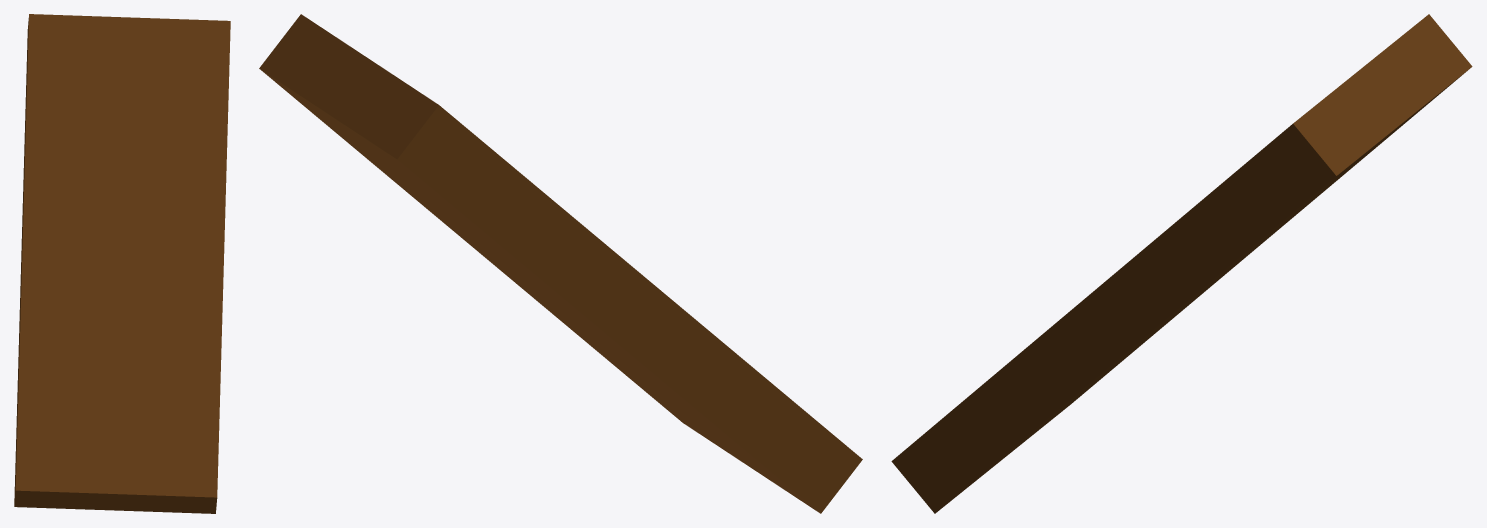
Rendered from Bridge1.fbx.
3 views of the same model, side by side, from view 1: azimuth 30°, elevation 25°; view 2: azimuth 150°, elevation 25°; view 3: azimuth 270°, elevation 25° (orthographic). The views are drawn at different scales.
Visible parts, largest first — view 1: Bridge1; view 2: Bridge1; view 3: Bridge1.
Boxes of the visible parts, <box> form: Bridge1: <box>14,14,230,513</box>; Bridge1: <box>259,14,862,513</box>; Bridge1: <box>891,14,1472,513</box>.
Size of the model in its own units: 56.29 by 60.28 by 63.85.
Materials: 1 (1 with a texture image).
